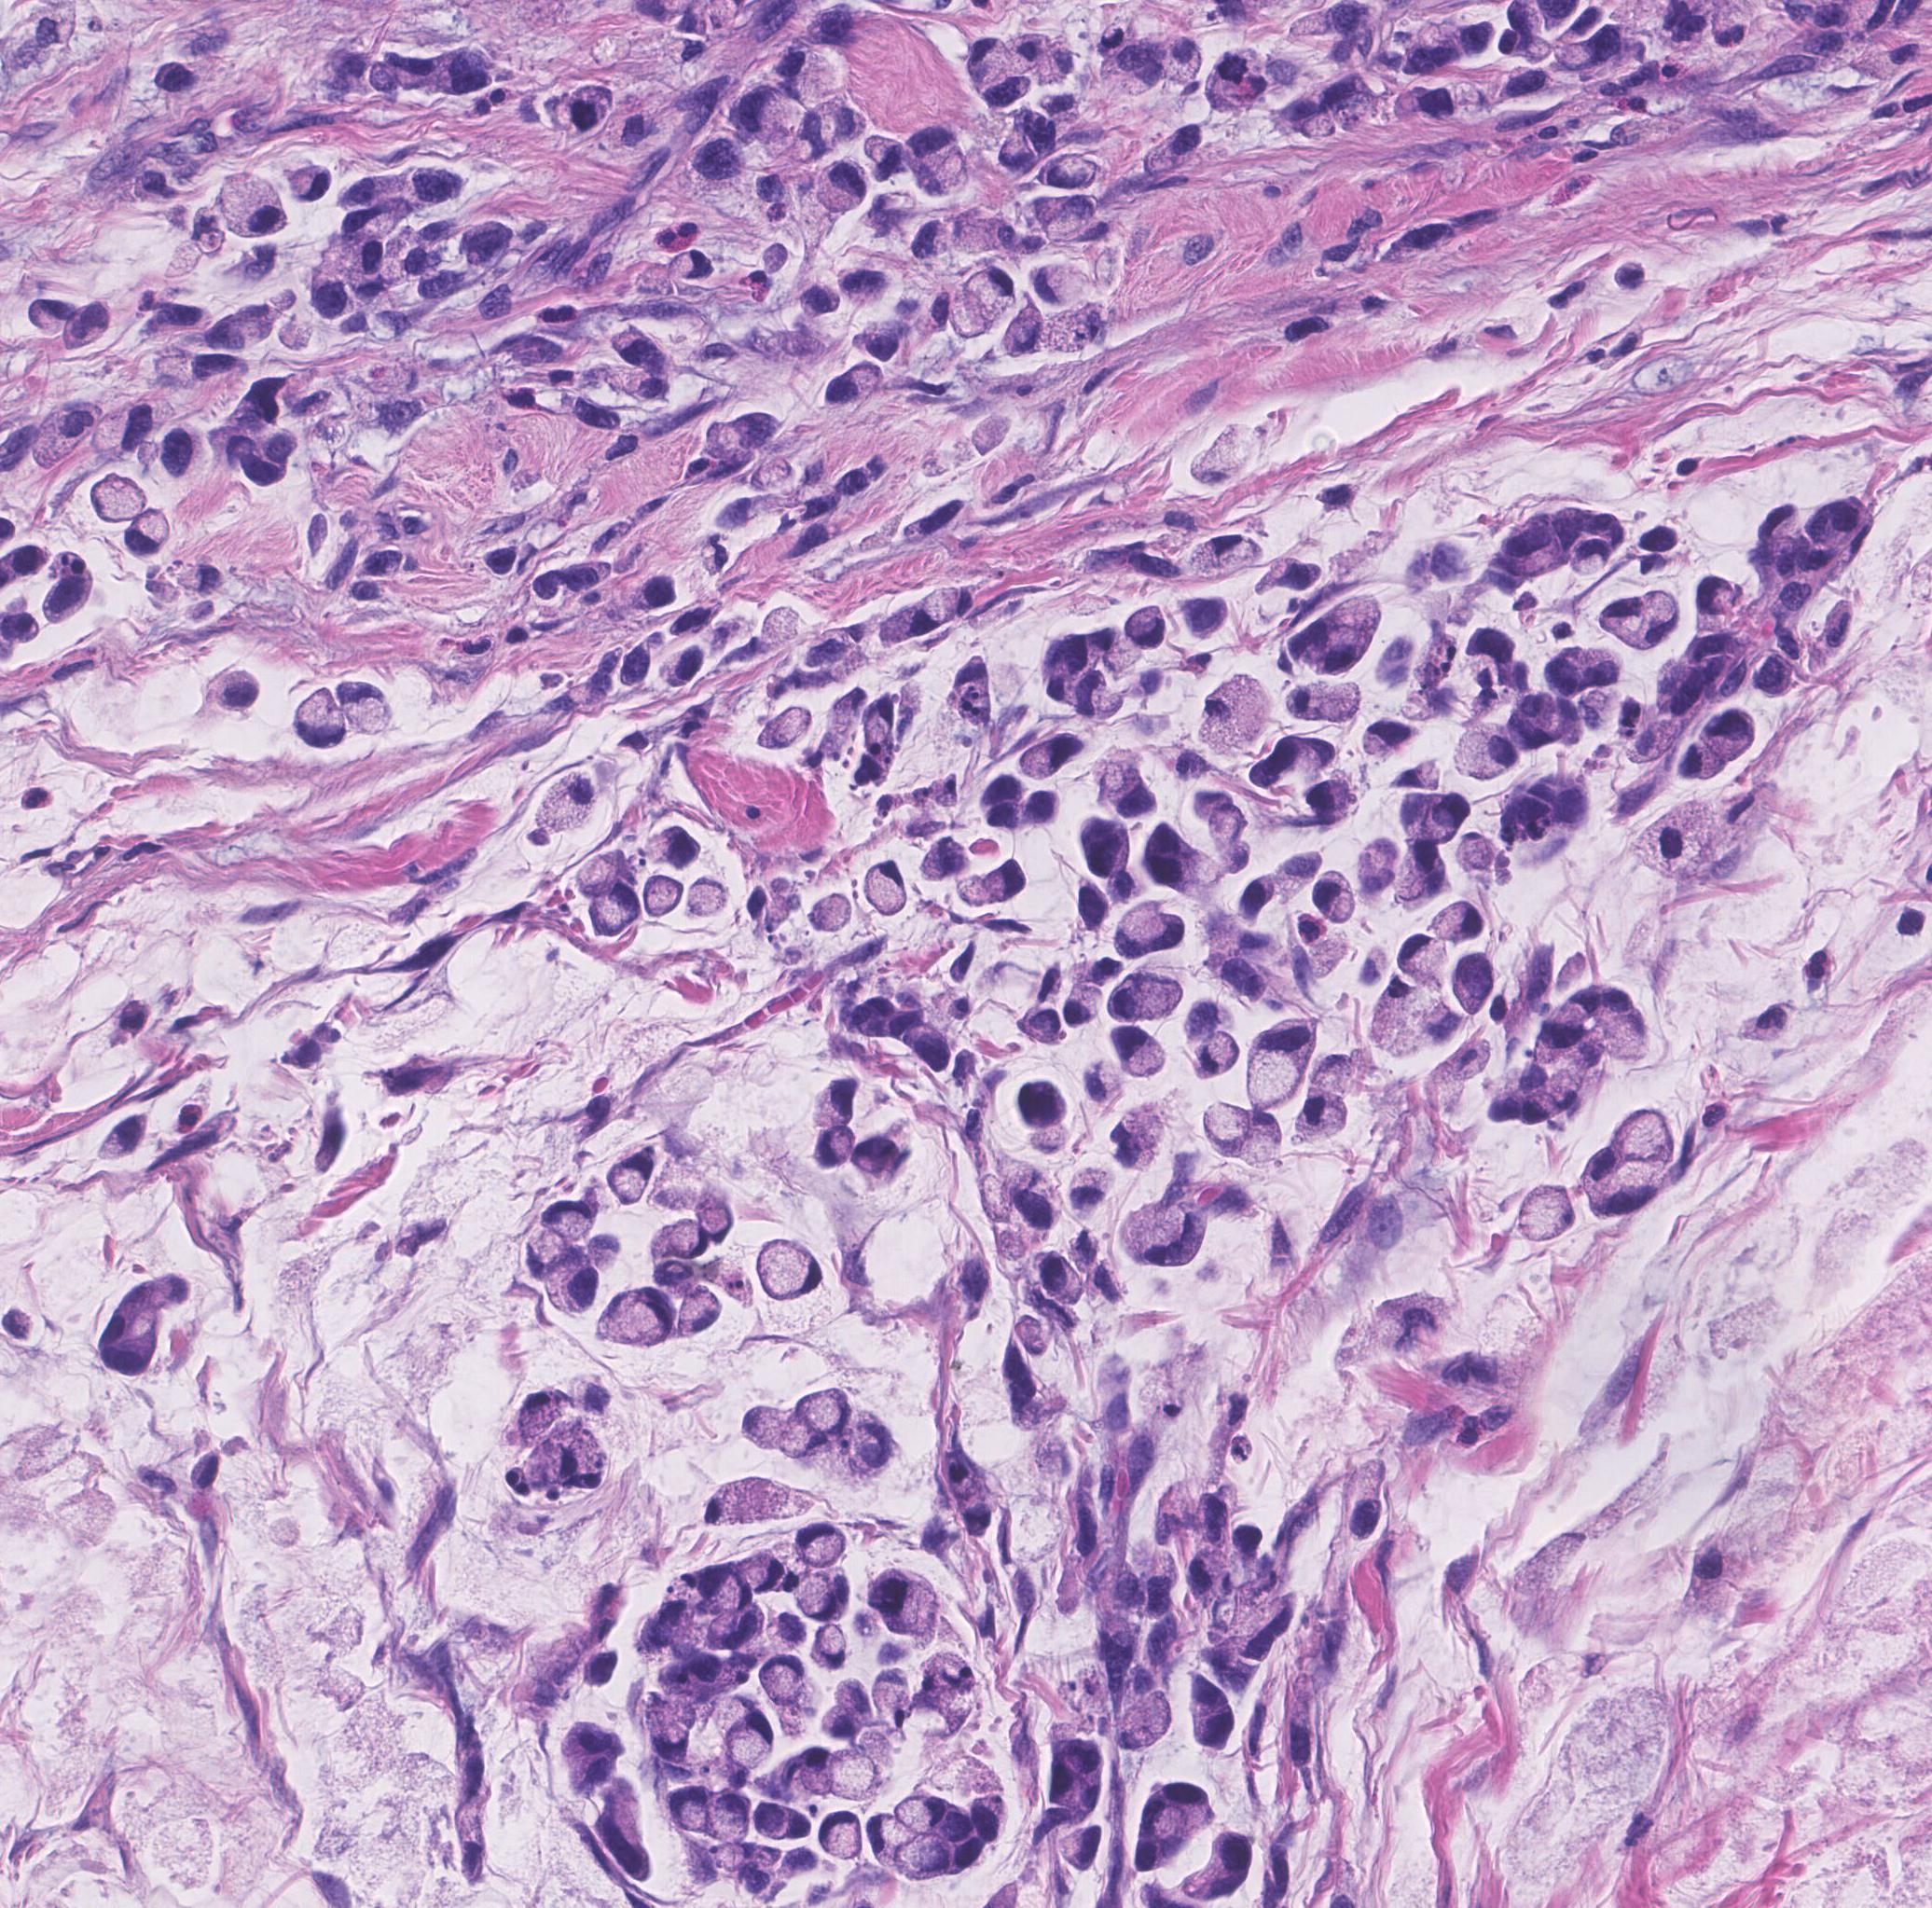ring_cell_cancer: (1245, 1008, 1314, 1111), (730, 79, 812, 161), (1198, 669, 1279, 753), (1127, 1200, 1211, 1277), (1639, 805, 1719, 882), (866, 1564, 945, 1639), (213, 166, 292, 239), (1294, 606, 1385, 669), (1001, 1157, 1064, 1246), (709, 1475, 802, 1532), (755, 1230, 831, 1296), (1373, 977, 1434, 1059), (100, 393, 173, 461), (1209, 38, 1268, 121), (1598, 980, 1659, 1059), (536, 1426, 610, 1490), (603, 1793, 653, 1884), (601, 1286, 676, 1347), (1239, 1590, 1300, 1665), (779, 38, 849, 103), (1452, 725, 1527, 785), (905, 126, 973, 190), (961, 30, 1025, 98), (949, 267, 1013, 335), (1459, 620, 1521, 690), (1106, 741, 1158, 823), (307, 243, 360, 323), (1099, 975, 1188, 1022), (692, 128, 751, 197), (1308, 1043, 1377, 1103), (543, 1249, 603, 1316), (33, 407, 101, 465), (178, 355, 246, 412), (646, 1688, 695, 1766), (1626, 701, 1686, 765), (1193, 1669, 1237, 1756), (533, 778, 603, 832), (1343, 1468, 1382, 1566), (1286, 676, 1359, 727), (295, 683, 348, 753), (1394, 928, 1455, 987), (1722, 786, 1778, 851), (1184, 531, 1263, 577), (437, 45, 500, 101), (402, 159, 466, 213), (1319, 73, 1383, 128), (1144, 849, 1211, 902), (1521, 1178, 1572, 1246), (1113, 1103, 1163, 1171), (613, 316, 671, 376), (1024, 723, 1083, 781), (1029, 1249, 1088, 1307), (877, 599, 949, 646), (1095, 1609, 1137, 1690), (795, 638, 872, 681), (1383, 1293, 1452, 1342), (830, 355, 887, 412), (844, 1426, 901, 1483), (543, 1186, 599, 1246), (1560, 26, 1635, 70), (564, 1716, 639, 1759), (863, 856, 914, 921), (1694, 564, 1743, 631), (589, 882, 646, 938), (1609, 1164, 1666, 1220), (863, 122, 917, 182), (1142, 1796, 1197, 1856), (1411, 797, 1473, 849), (1204, 1833, 1254, 1896), (1618, 757, 1666, 821), (744, 875, 802, 930), (89, 472, 148, 524), (337, 680, 397, 732), (1200, 1104, 1252, 1164), (1404, 86, 1485, 124), (673, 1656, 749, 1697), (823, 154, 870, 218), (96, 1113, 154, 1165), (51, 559, 96, 626), (1535, 1008, 1595, 1059), (1142, 1543, 1183, 1616), (611, 1148, 664, 1204), (723, 1711, 776, 1766), (561, 84, 618, 135), (514, 1386, 564, 1443), (1700, 704, 1759, 753), (112, 1324, 161, 1384), (239, 370, 286, 432), (1149, 121, 1204, 173), (737, 1400, 793, 1450), (522, 1225, 571, 1282), (390, 44, 449, 91), (1404, 844, 1446, 910), (1155, 33, 1207, 86), (1071, 875, 1114, 938), (1162, 1780, 1212, 1835), (1312, 872, 1361, 928), (1179, 994, 1235, 1043), (1031, 264, 1095, 306), (964, 865, 1025, 909), (1544, 645, 1595, 697), (1300, 1094, 1350, 1146), (1113, 1027, 1167, 1076), (662, 1786, 711, 1840), (917, 839, 973, 886), (868, 1662, 915, 1718), (963, 217, 1027, 257), (1431, 23, 1504, 58), (1661, 662, 1710, 715), (1190, 1546, 1232, 1607), (762, 704, 816, 751), (1127, 599, 1172, 655), (968, 1789, 1013, 1845), (816, 1068, 859, 1125), (797, 1393, 854, 1436), (852, 1139, 910, 1183), (734, 1553, 793, 1595), (1123, 1702, 1174, 1751), (868, 1812, 917, 1863), (341, 204, 419, 236), (1205, 432, 1252, 484), (1109, 45, 1163, 91), (795, 1522, 849, 1567), (818, 1808, 863, 1863), (145, 301, 211, 337), (335, 173, 402, 210), (1361, 716, 1424, 755), (65, 301, 114, 349), (129, 505, 175, 557), (866, 688, 901, 757), (1064, 1730, 1109, 1782), (914, 211, 956, 267), (1611, 587, 1653, 643), (1053, 197, 1101, 246), (758, 1656, 805, 1705), (790, 1752, 837, 1801), (907, 1835, 956, 1882), (613, 101, 659, 152), (798, 1578, 849, 1623), (826, 94, 870, 147), (227, 246, 286, 285), (1268, 556, 1328, 594), (1069, 1169, 1111, 1223), (713, 1607, 767, 1649), (711, 1793, 753, 1847), (1502, 68, 1567, 103), (956, 641, 990, 706), (1363, 837, 1397, 902), (1004, 302, 1045, 358), (648, 828, 706, 867), (838, 262, 896, 301), (1198, 1022, 1237, 1080), (807, 1127, 858, 1171), (756, 1805, 811, 1845), (1066, 681, 1121, 720), (573, 851, 620, 896), (1088, 626, 1134, 673), (1305, 779, 1354, 823), (1272, 853, 1322, 895), (693, 1185, 735, 1235), (659, 1218, 711, 1258), (894, 1794, 949, 1833), (1041, 154, 1101, 189), (213, 425, 260, 468), (639, 872, 683, 919), (1062, 984, 1106, 1031), (461, 224, 510, 266), (683, 877, 732, 919), (190, 204, 229, 257), (721, 419, 779, 454), (653, 1255, 706, 1293), (1584, 1148, 1630, 1192), (1013, 1314, 1059, 1358), (1487, 1082, 1528, 1129), (1045, 31, 1081, 84), (1434, 905, 1487, 942), (1144, 917, 1197, 954), (1087, 1057, 1123, 1110), (1018, 1005, 1064, 1047), (1046, 1763, 1088, 1808), (112, 999, 152, 1047), (674, 245, 721, 285), (1109, 917, 1156, 957), (1004, 119, 1039, 173), (926, 587, 980, 622), (1052, 631, 1090, 680), (1553, 1068, 1588, 1120), (1211, 800, 1252, 844), (681, 1289, 721, 1335), (1516, 1085, 1558, 1127), (945, 1833, 985, 1877), (831, 1683, 877, 1721), (973, 411, 1011, 456), (1149, 826, 1197, 863), (24, 295, 73, 330), (692, 1562, 727, 1611), (292, 161, 334, 201), (1747, 1005, 1789, 1045), (1010, 33, 1053, 72), (791, 1424, 835, 1462), (811, 1628, 849, 1672), (178, 563, 231, 594), (807, 896, 854, 931), (576, 1754, 624, 1789), (190, 1448, 224, 1497), (1237, 930, 1280, 966), (1167, 750, 1218, 781), (1581, 655, 1626, 690), (1066, 1829, 1101, 1875), (709, 1842, 755, 1877), (218, 669, 259, 708), (1291, 743, 1331, 781), (5, 1302, 42, 1344), (154, 1270, 192, 1309), (1212, 839, 1252, 875), (804, 280, 838, 321), (203, 320, 252, 349), (821, 1711, 858, 1746), (1193, 792, 1235, 821), (295, 390, 339, 416), (769, 458, 798, 486), (749, 460, 776, 491)
